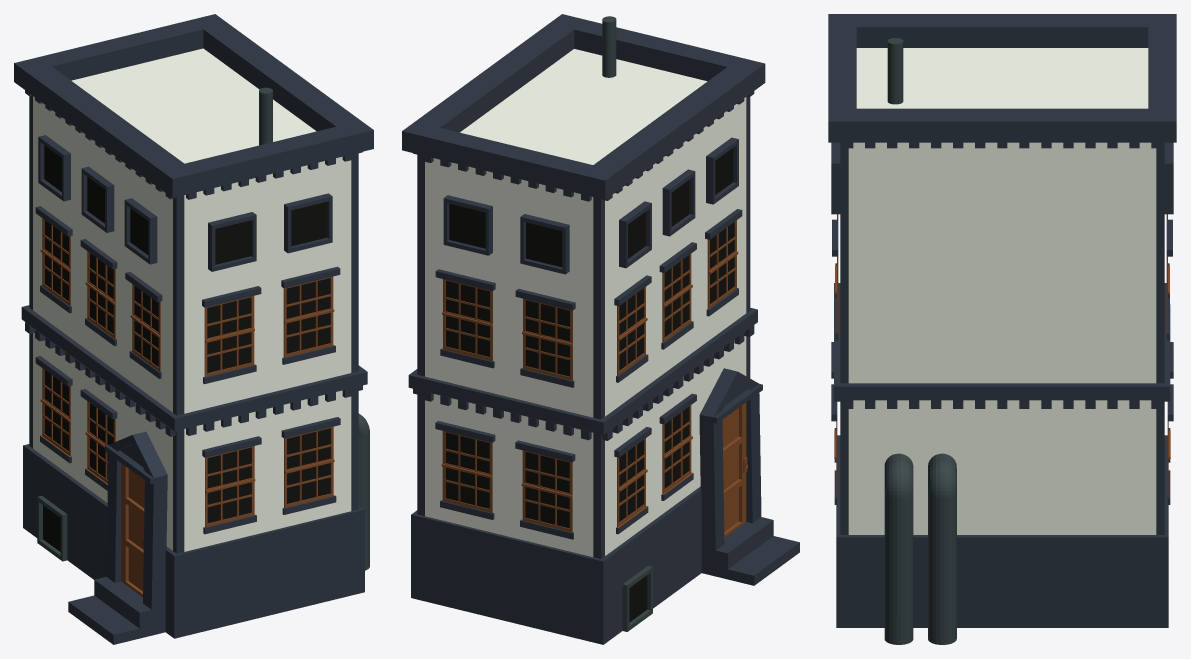
Rendered from Building 2.fbx.
The picture shows the model from 3 angles, left to right: view 1: azimuth 30°, elevation 25°; view 2: azimuth 150°, elevation 25°; view 3: azimuth 270°, elevation 25°; orthographic projection. The views are drawn at different scales.
Parts seen in each view (by area): view 1: Door; view 2: Door; view 3: Door.
Part boxes in pixels (box(x1,y1,x2,y2)): Door: box(14, 14, 373, 644); Door: box(402, 14, 799, 644); Door: box(828, 14, 1176, 644).
Size of the model in its own units: 881 by 1532 by 881.
